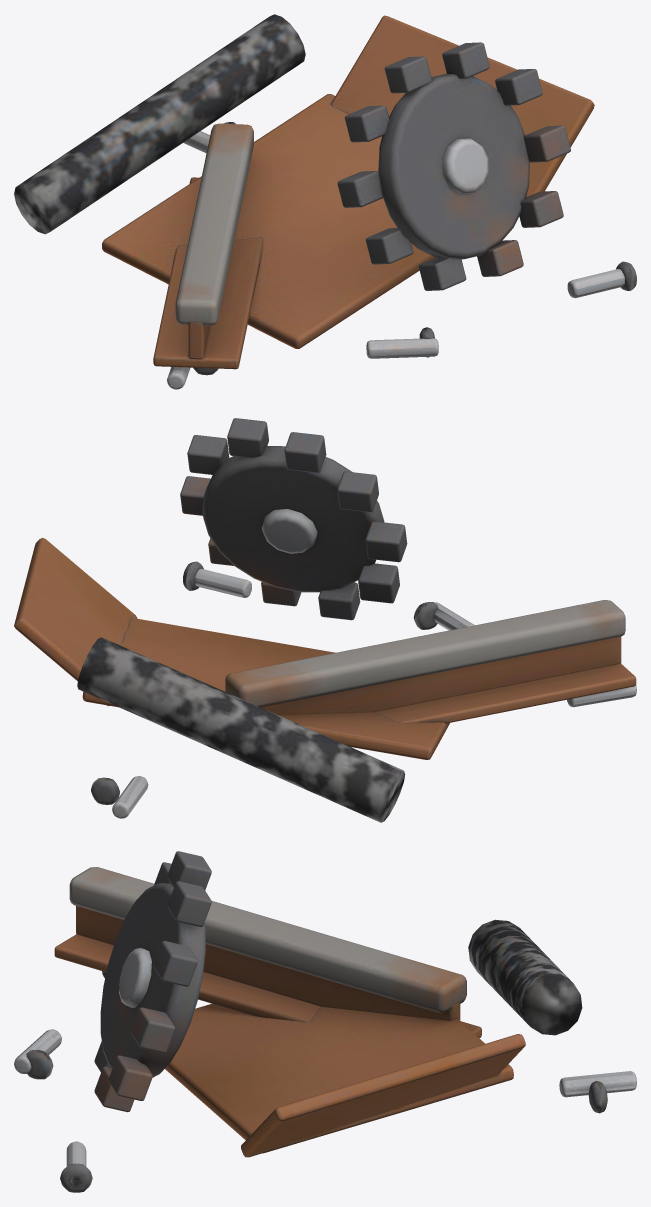
File: scrap_pile.glb
3 renders of one model, top to bottom at view 1: azimuth 30°, elevation 25°; view 2: azimuth 150°, elevation 25°; view 3: azimuth 270°, elevation 25°, orthographic. The views are drawn at different scales.
Parts seen in each view (by area): view 1: ScrapPile; view 2: ScrapPile; view 3: ScrapPile.
Part boxes in pixels (bbox=[...]): ScrapPile: bbox=[14, 14, 636, 389]; ScrapPile: bbox=[14, 418, 636, 822]; ScrapPile: bbox=[14, 851, 636, 1192].
Size of the model in its own units: 0.8417 by 0.3669 by 0.8119.
5 materials, 5 textured.
